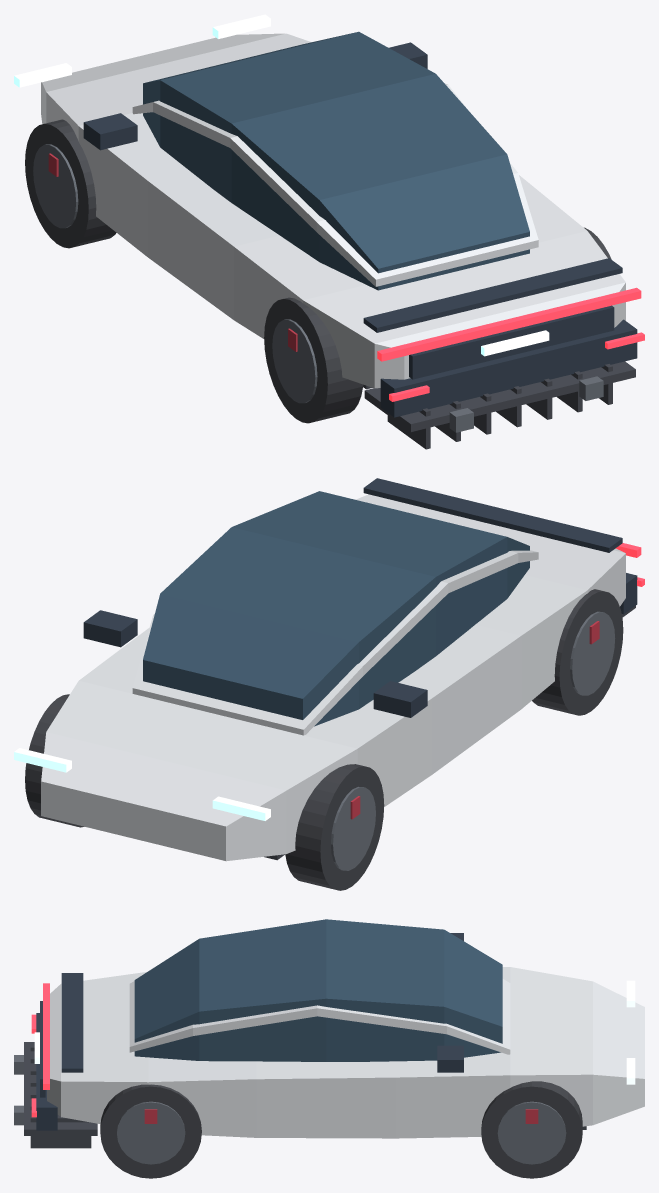
Rendered from XWAVE_Car_3D_v1.glb.
3 renders of one model, top to bottom at view 1: azimuth 30°, elevation 25°; view 2: azimuth 150°, elevation 25°; view 3: azimuth 270°, elevation 25°, orthographic. The views are drawn at different scales.
Visible parts, largest first — view 1: Roof_GlassCanopy, Body_MainShell, Rear_LowerBumper, Roof_PearlFrame, Wheel_Rear_L, Rear_UpperSpoiler, Rear_BlackBadgePanel, Wheel_Front_L, Diffuser_Main, Rear_ContinuousLED, Rim_Rear_L, Rim_Front_L (+4 smaller); view 2: Body_MainShell, Roof_GlassCanopy, Roof_PearlFrame, Wheel_Front_L, Rear_UpperSpoiler, Wheel_Rear_L, Rim_Front_L, Rim_Rear_L, Wheel_Front_R, Mirror_R, Mirror_L, Headlamp_L (+1 smaller); view 3: Body_MainShell, Roof_GlassCanopy, Roof_PearlFrame, Wheel_Front_R, Wheel_Rear_R, Rim_Rear_R, Rim_Front_R, Rear_UpperSpoiler, Diffuser_Main, Diffuser_Fin_7, Rear_LowerBumper, Mirror_R (+1 smaller).
Boxes of the visible parts, x1,y1,x2,y2 form: Roof_GlassCanopy: (143, 31, 529, 290); Body_MainShell: (41, 33, 625, 388); Rear_LowerBumper: (380, 319, 637, 417); Roof_PearlFrame: (132, 83, 538, 286); Wheel_Rear_L: (264, 297, 363, 423); Rear_UpperSpoiler: (363, 258, 622, 332); Rear_BlackBadgePanel: (409, 305, 614, 379); Wheel_Front_L: (25, 119, 116, 248); Diffuser_Main: (364, 361, 635, 431); Rear_ContinuousLED: (377, 287, 641, 361); Rim_Rear_L: (272, 319, 317, 403); Rim_Front_L: (33, 144, 78, 228); Body_MainShell: (41, 494, 625, 861); Roof_GlassCanopy: (143, 491, 529, 726); Roof_PearlFrame: (132, 550, 538, 735); Wheel_Front_L: (285, 764, 384, 890); Rear_UpperSpoiler: (363, 478, 622, 552); Wheel_Rear_L: (532, 589, 623, 715); Rim_Front_L: (330, 786, 375, 870); Rim_Rear_L: (570, 611, 615, 695); Wheel_Front_R: (25, 694, 84, 827); Mirror_R: (83, 610, 137, 647); Mirror_L: (373, 681, 427, 717); Headlamp_L: (212, 796, 270, 820); Body_MainShell: (47, 967, 644, 1138); Roof_GlassCanopy: (134, 919, 502, 1061); Roof_PearlFrame: (129, 979, 510, 1054); Wheel_Front_R: (481, 1081, 582, 1178); Wheel_Rear_R: (100, 1084, 201, 1178); Rim_Rear_R: (117, 1101, 185, 1164); Rim_Front_R: (497, 1101, 566, 1164); Rear_UpperSpoiler: (61, 973, 83, 1072); Diffuser_Main: (24, 1042, 97, 1135); Diffuser_Fin_7: (30, 1116, 91, 1148); Rear_LowerBumper: (36, 1013, 57, 1130); Mirror_R: (437, 1045, 463, 1072).
Size of the model in its own units: 2.37 by 1.41 by 4.97.
